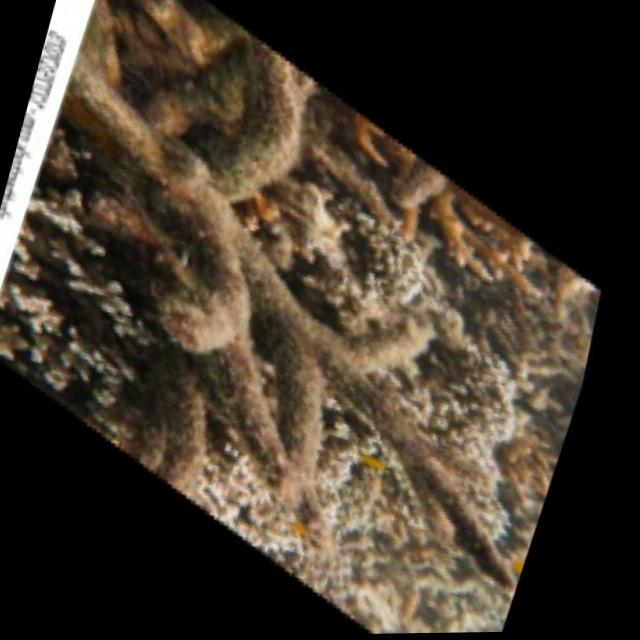Dead Coral: (0, 19, 638, 621)
